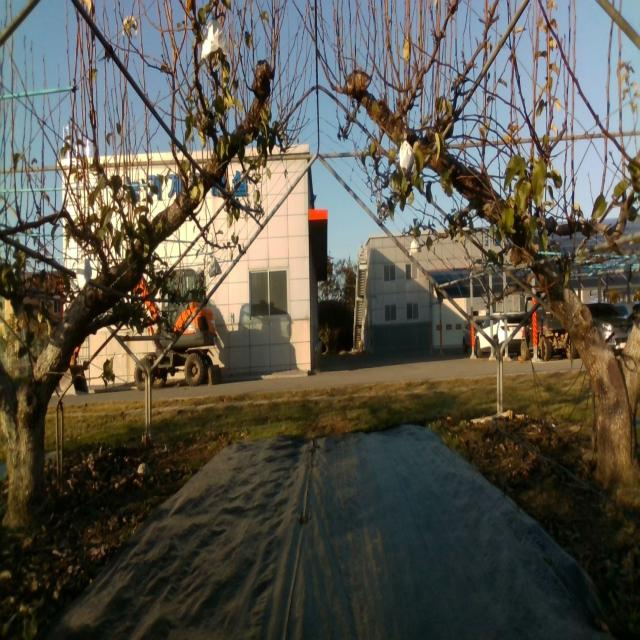pearbags: (202, 18, 230, 58), (76, 250, 92, 292), (399, 140, 415, 179), (209, 256, 221, 278), (409, 238, 421, 256)
